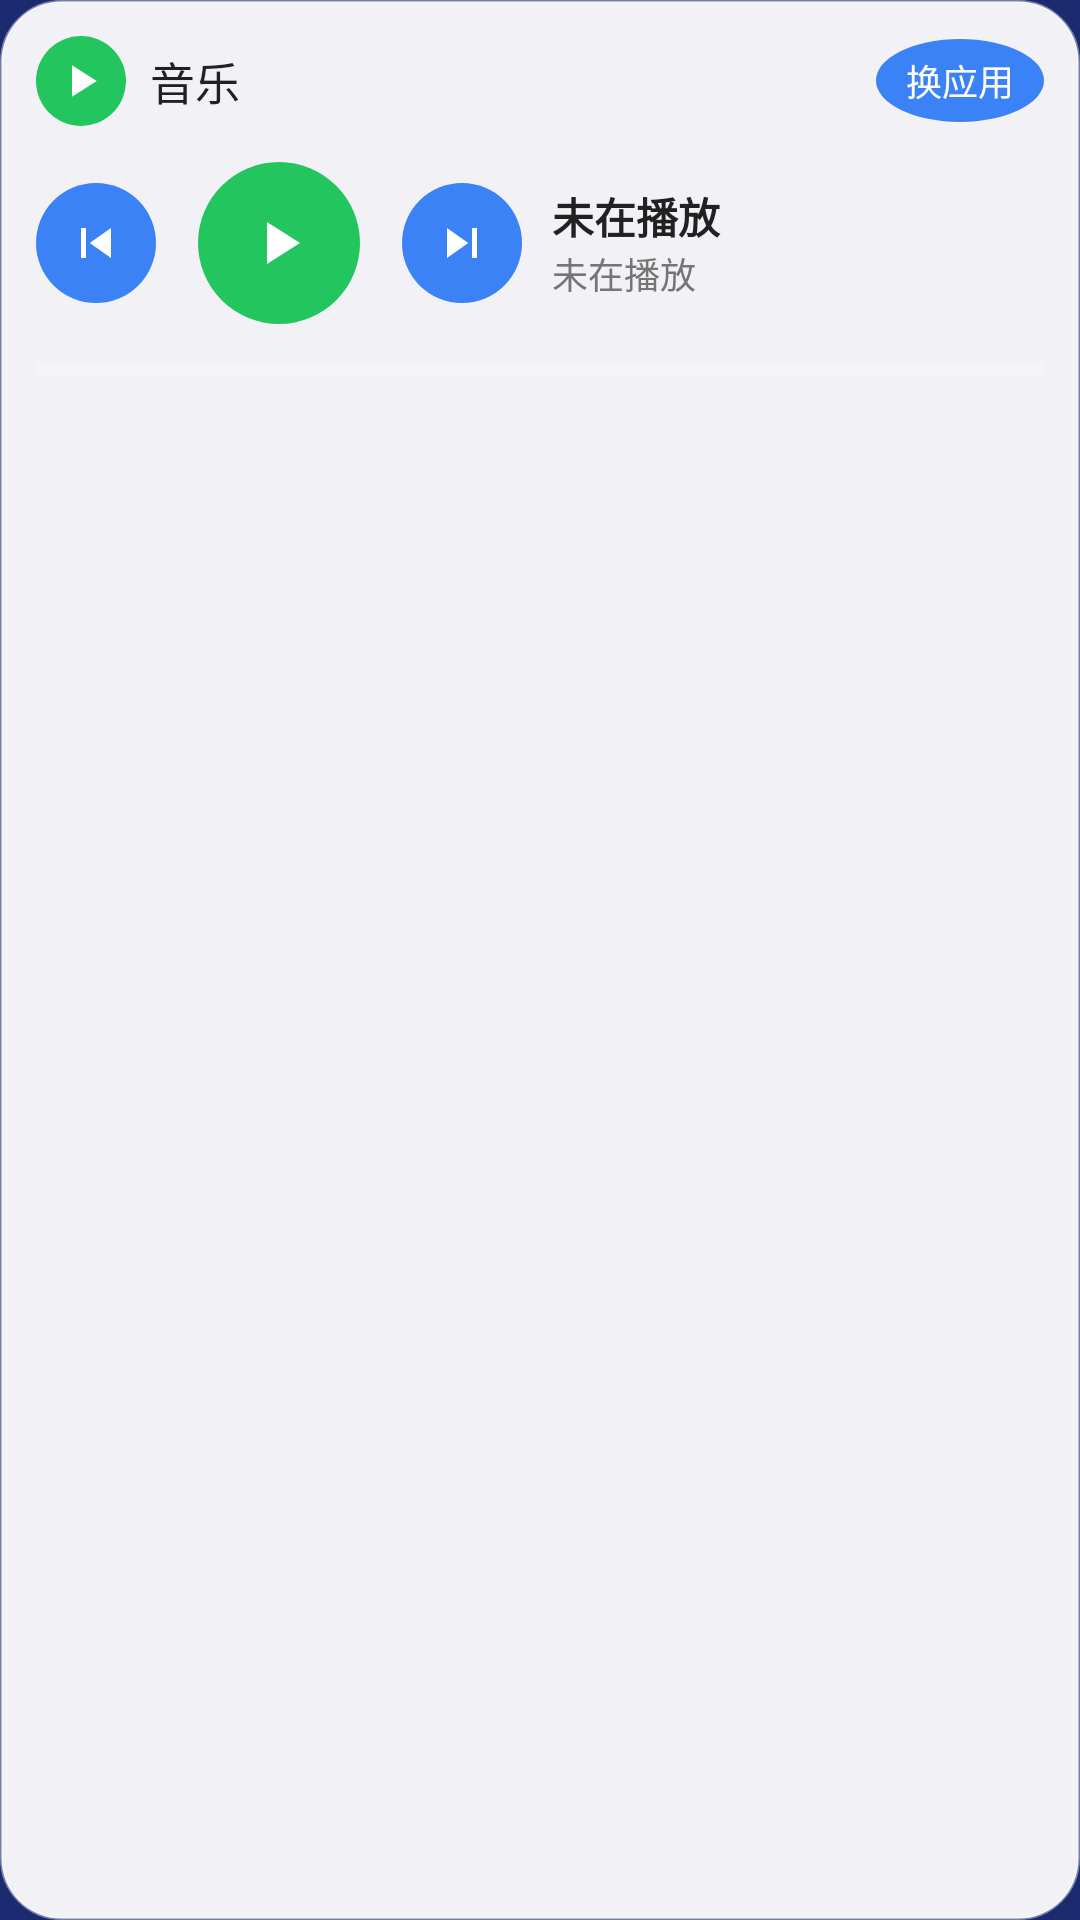

Named icons in this screenshot (1080w x 1920h) and their centers, [x,y]:
上一曲: [96,243]
下一曲: [462,243]
播放/暂停: [279,243]
